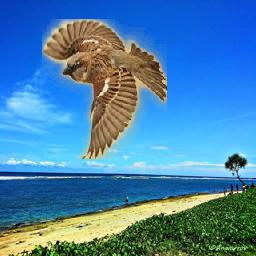Sparrow: (43, 19, 168, 159)
